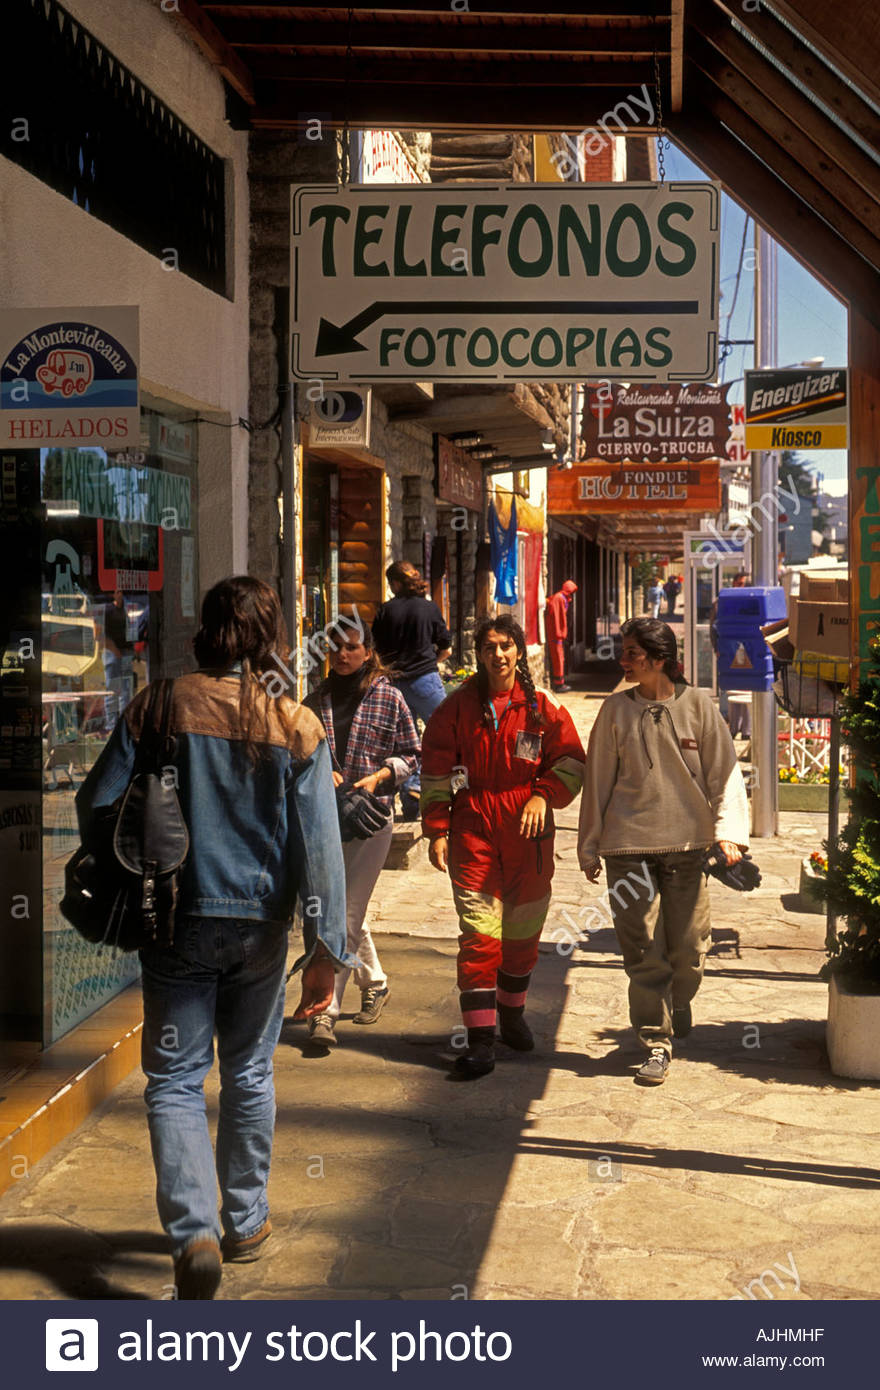Age_20_30: (620, 625, 677, 686), (476, 621, 522, 681)
Age_below20: (326, 623, 373, 676)
E_White: (620, 625, 677, 686), (476, 621, 522, 681), (326, 623, 373, 676)
Emotion_Happy: (620, 625, 677, 686), (476, 621, 522, 681)
Emotion_Neutral: (326, 623, 373, 676)
G_ Female: (620, 625, 677, 686), (476, 621, 522, 681), (326, 623, 373, 676)
Not_Face: (206, 583, 281, 674), (385, 563, 423, 597), (559, 578, 579, 599)
